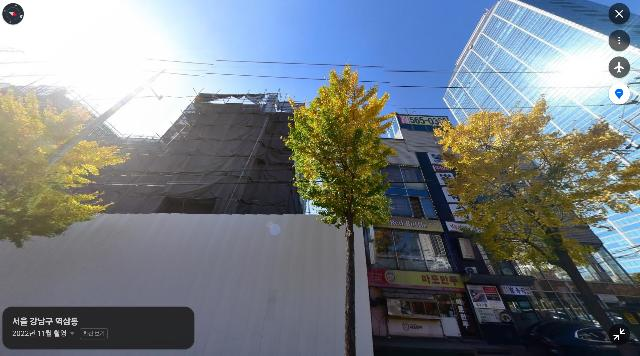ginkgo: (430, 96, 640, 356), (282, 62, 400, 356), (0, 87, 132, 250)
